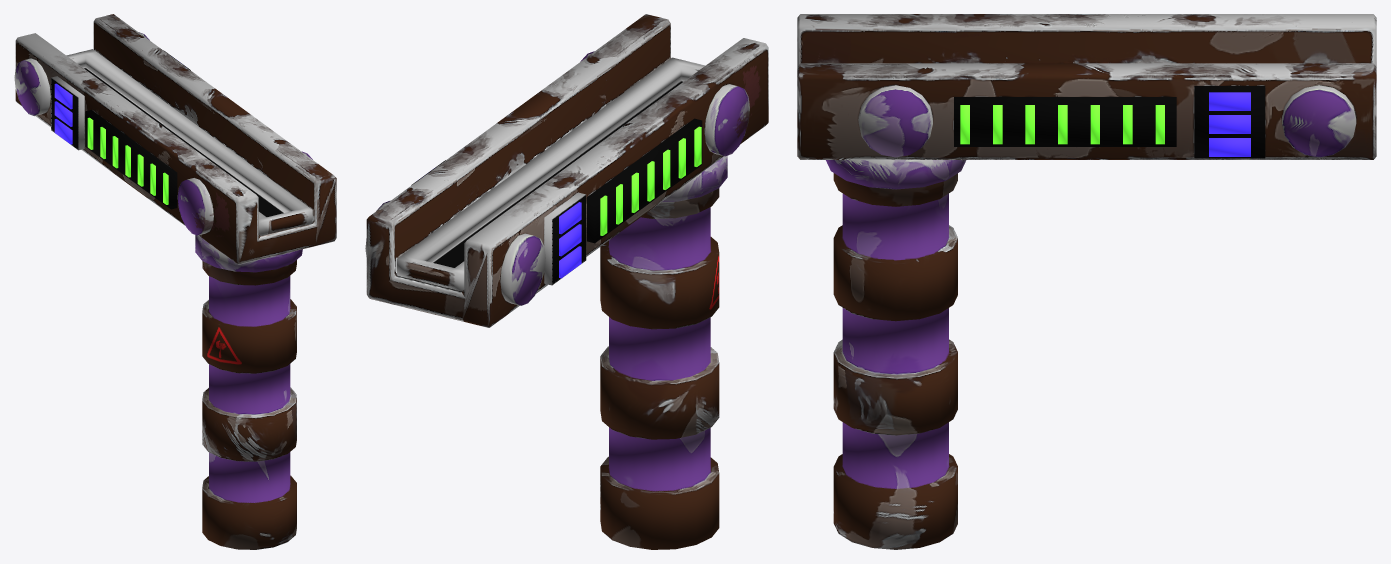
File: tasak.fbx
The picture shows the model from 3 angles, left to right: view 1: azimuth 30°, elevation 25°; view 2: azimuth 150°, elevation 25°; view 3: azimuth 270°, elevation 25°; orthographic projection. The views are drawn at different scales.
Parts seen in each view (by area): view 1: Cylinder.007; view 2: Cylinder.007; view 3: Cylinder.007.
Part boxes in pixels (x1,y1,x2,y2): Cylinder.007: (14,14,336,549); Cylinder.007: (365,14,768,549); Cylinder.007: (797,14,1376,549).
Size of the model in its own units: 43.72 by 133 by 145.
